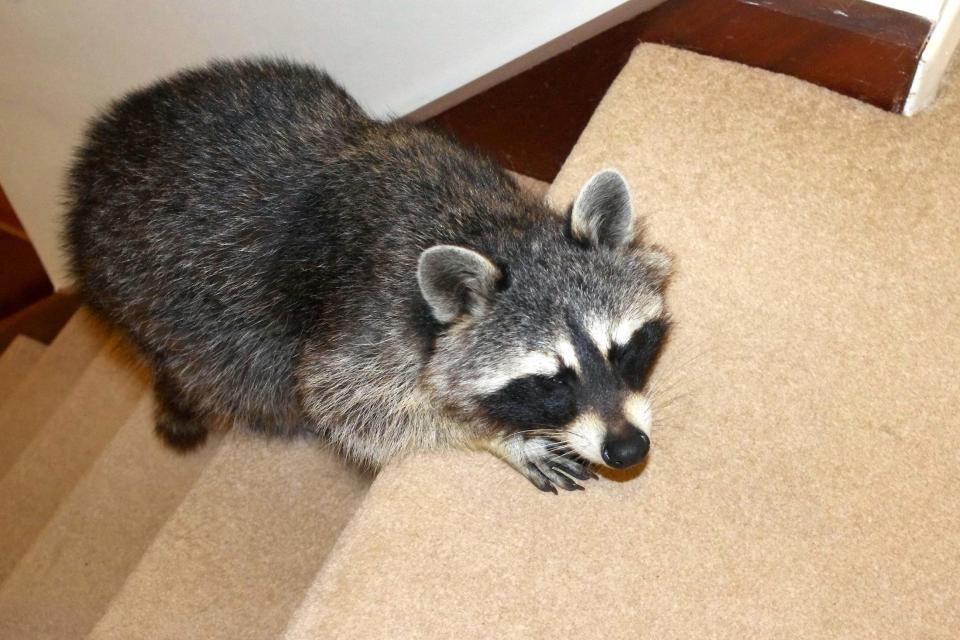raccoon: (36, 31, 728, 542)
